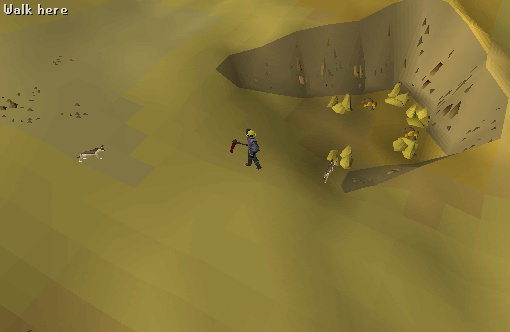gold: (324, 142, 359, 173), (323, 90, 360, 118), (403, 103, 439, 130), (380, 81, 414, 109), (389, 132, 420, 161)
